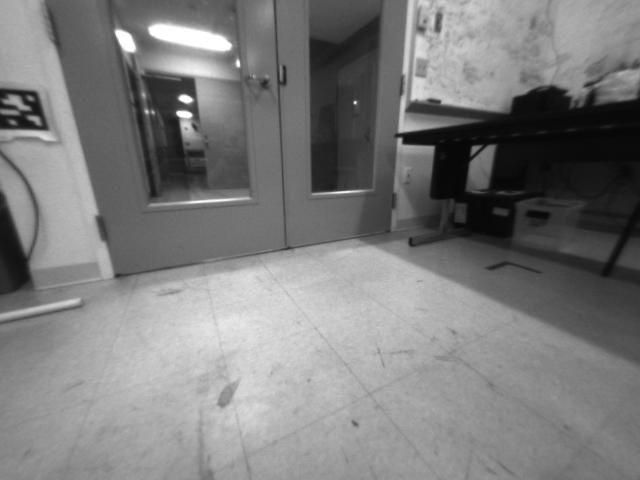door_handle: (240, 68, 274, 89)
